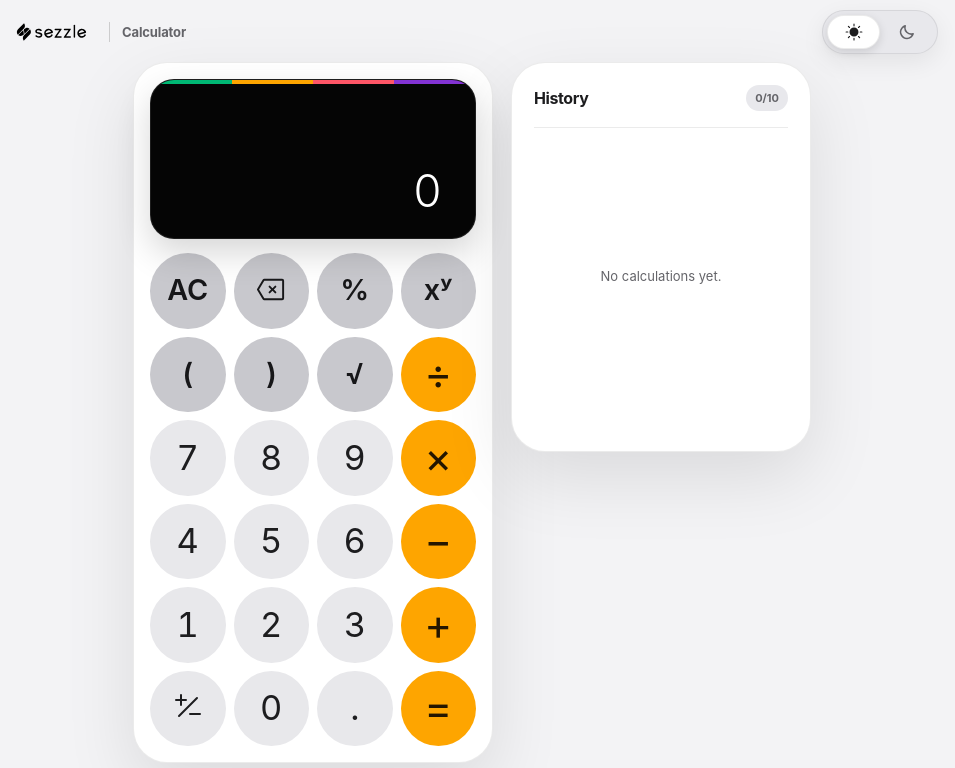
Test: calculator › applies square root only to the active operand in a longer expression
The image size is (955, 768).
Click the button "2". click: (271, 625)
box: [234,587,309,662]
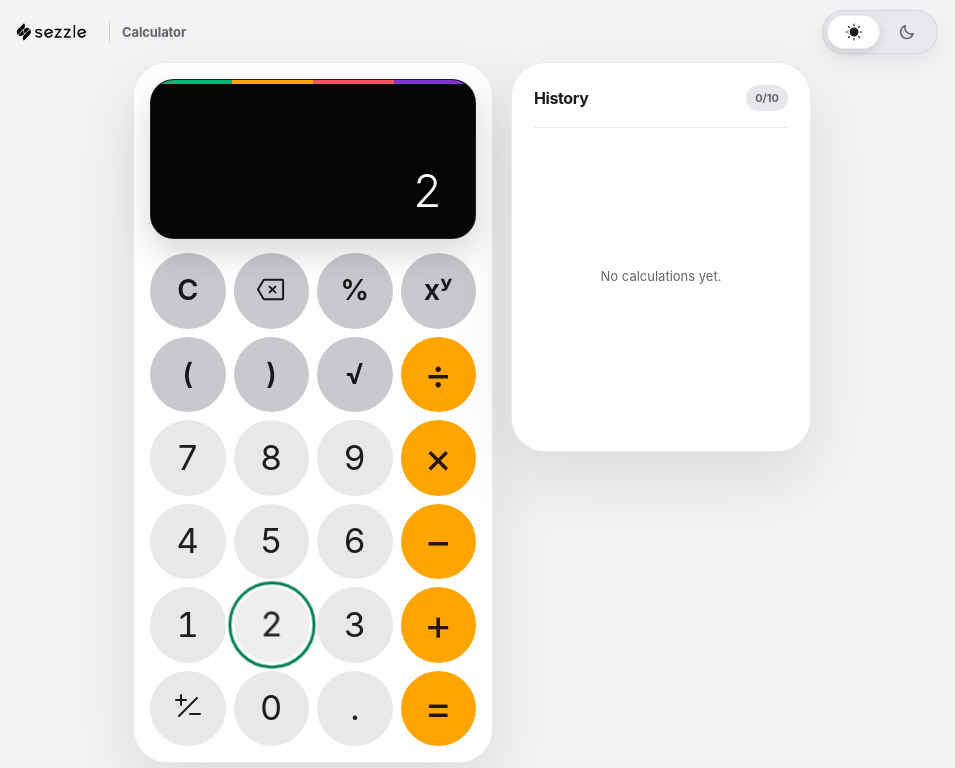
Click the button named "plus". click: (438, 625)
box: [400,587,476,662]
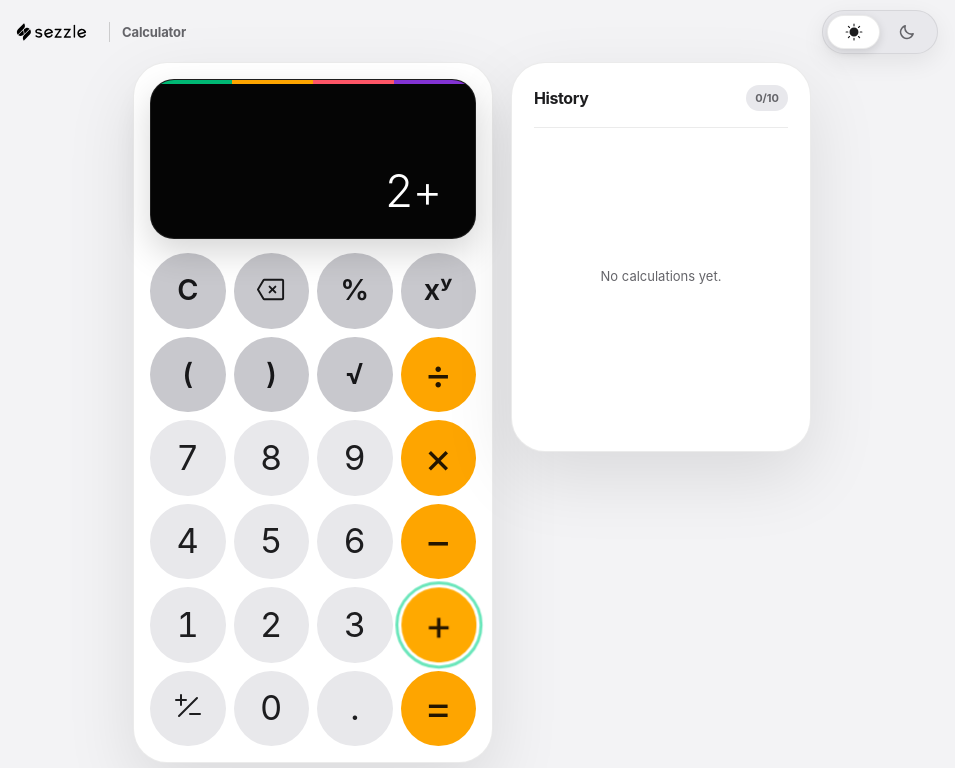
Click the button "9". click: (355, 458)
box: [317,420,392,496]
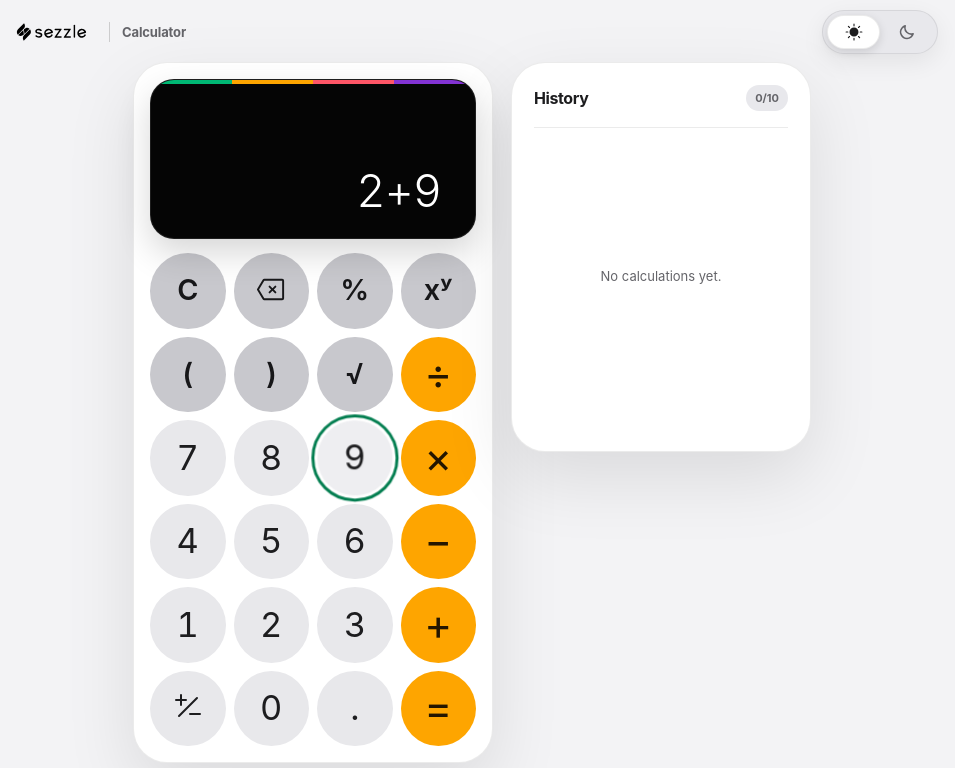
Click the button named "square root". click: (355, 374)
box: [317,336,392,412]
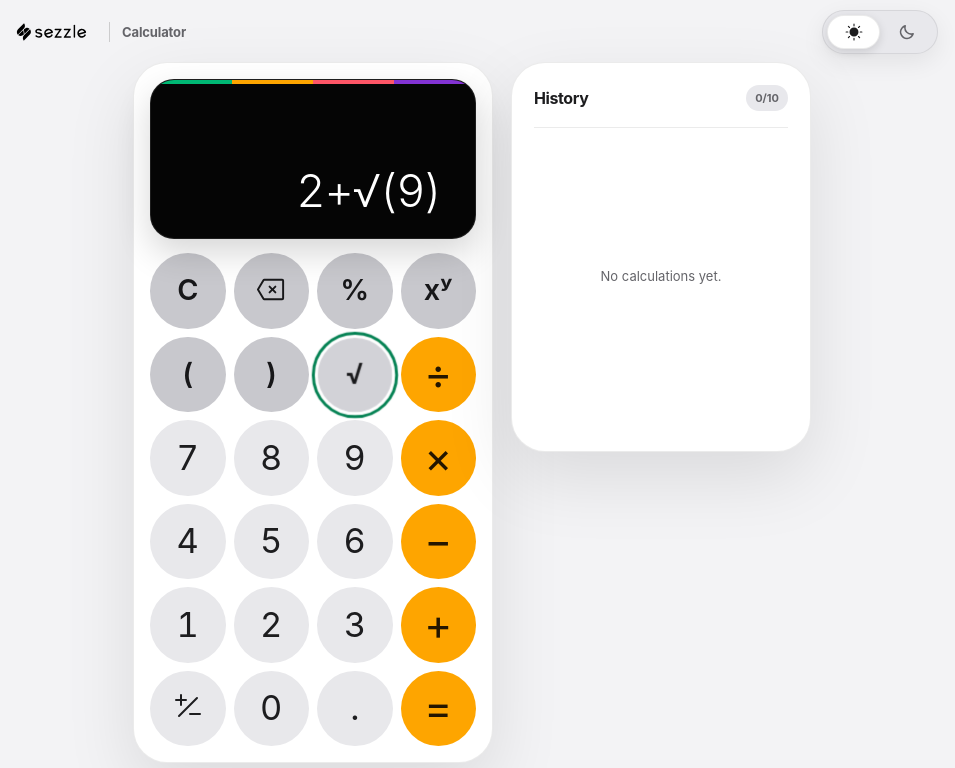
Expected: the element named "result" reads "2+√(9)", [296,163,441,218]
